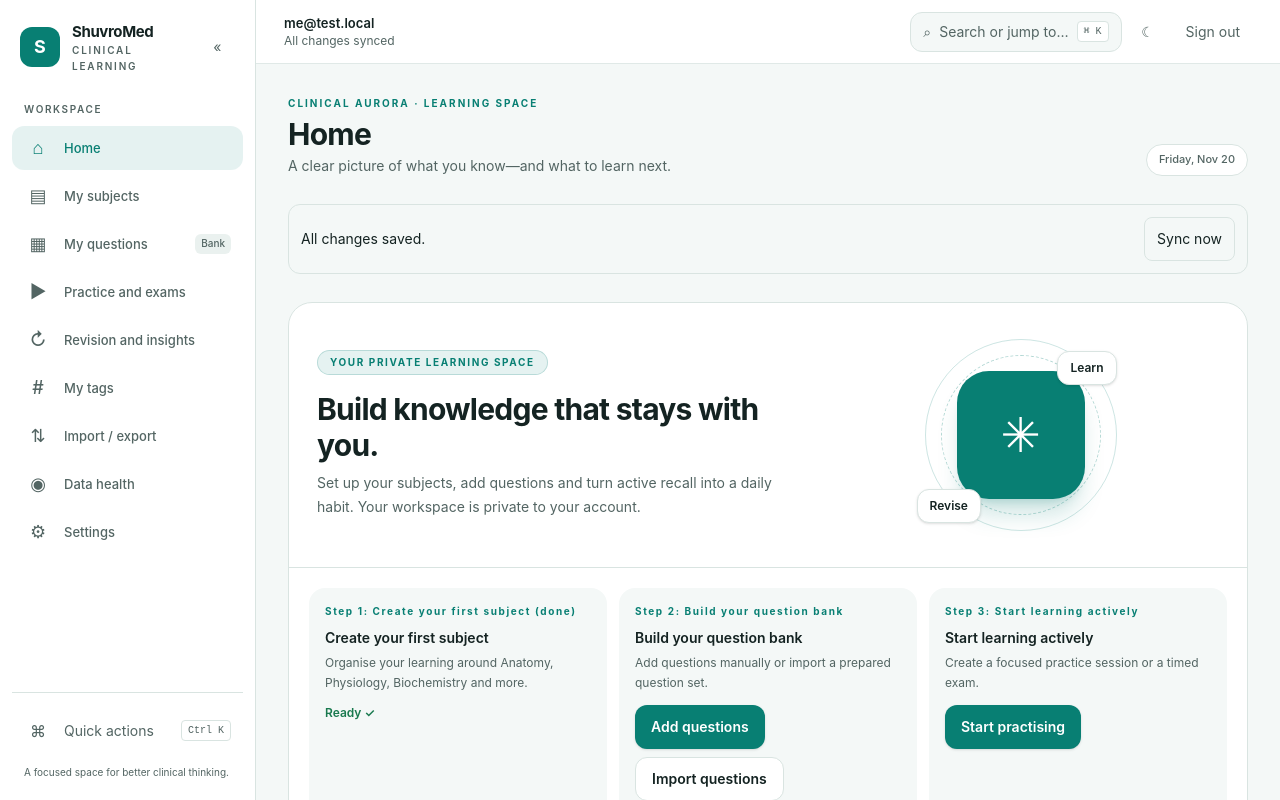
it: first screen after the cutover › marks finished steps and then shows the summary instead of the guide
Expected: the text "Step 1: Create your first subject (done)" is shown, [325, 604, 591, 619]
Click the button "Sync now" at (1190, 238), box [1144, 216, 1235, 260]
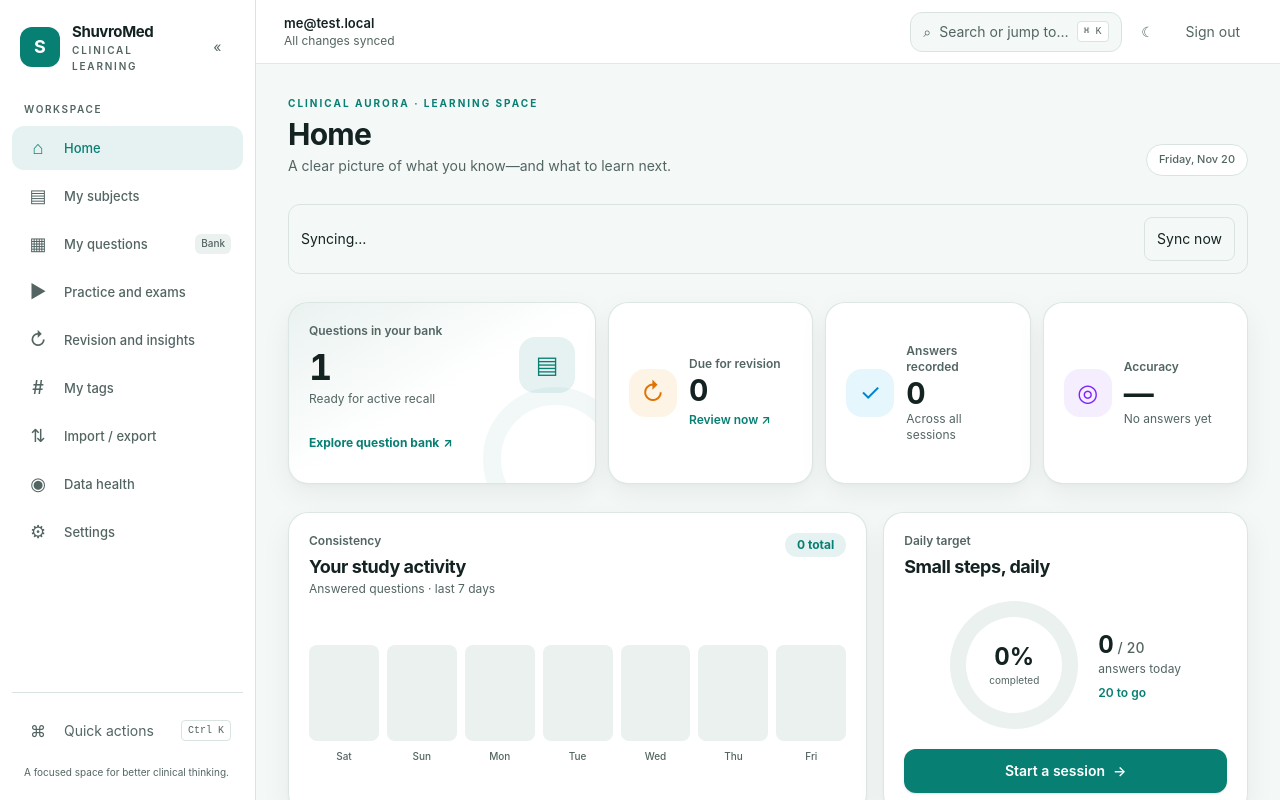
Result: the text "Due for revision" is shown at [689, 356, 780, 372]
Result: the heading "Build knowledge that stays with you" is gone
Result: the element named "Study overview" shows "1" at [309, 344, 331, 388]
